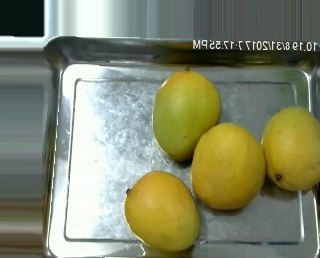Mango: (190, 121, 267, 209), (125, 171, 201, 251), (153, 71, 220, 159), (262, 107, 320, 192)
